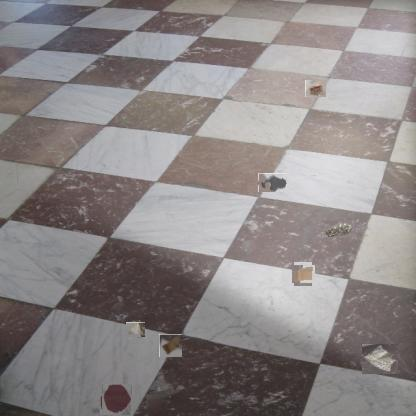dirty: (362, 344, 398, 374), (320, 220, 354, 238), (159, 334, 182, 357), (293, 264, 313, 284), (305, 79, 326, 97), (127, 321, 144, 339)
liquid: (101, 385, 132, 416), (258, 173, 286, 192)
